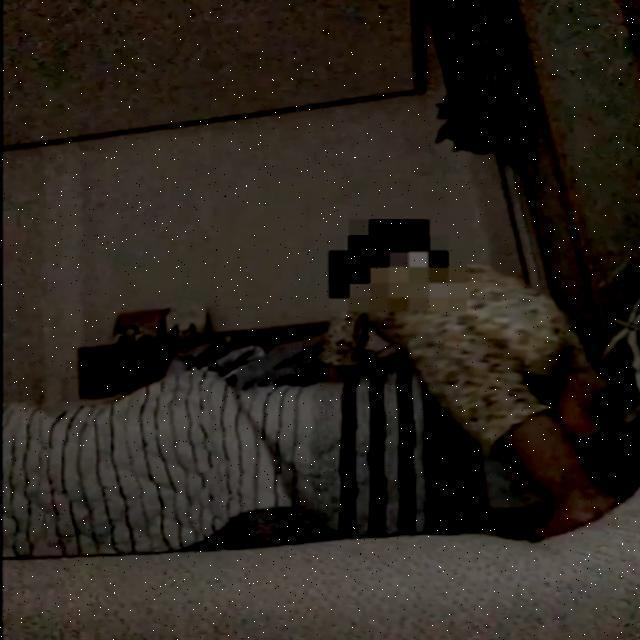child: (319, 218, 628, 536)
